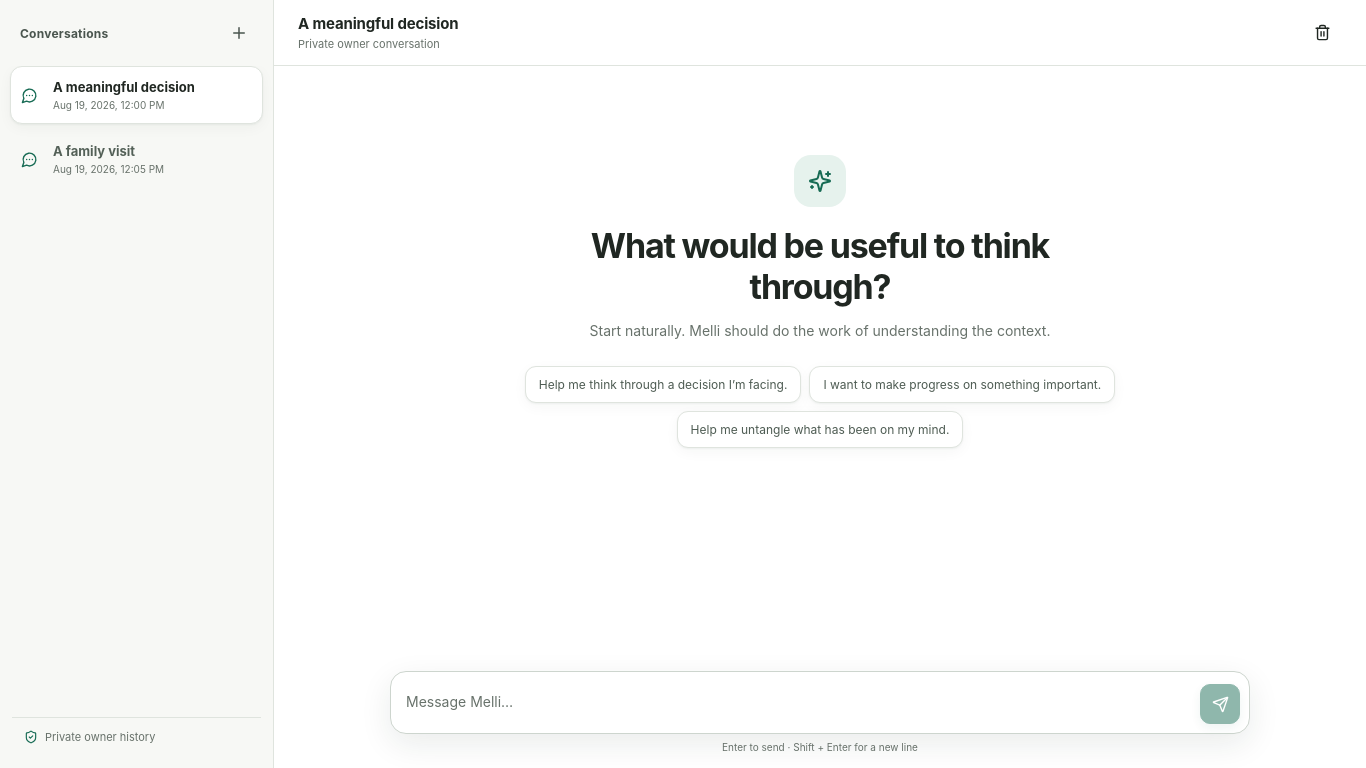
Scenario: ConversationPage › does not let a delayed create steal newer navigation
Click the button named "Start a new conversation" at {"x": 239, "y": 33}, box [219,13,259,53]
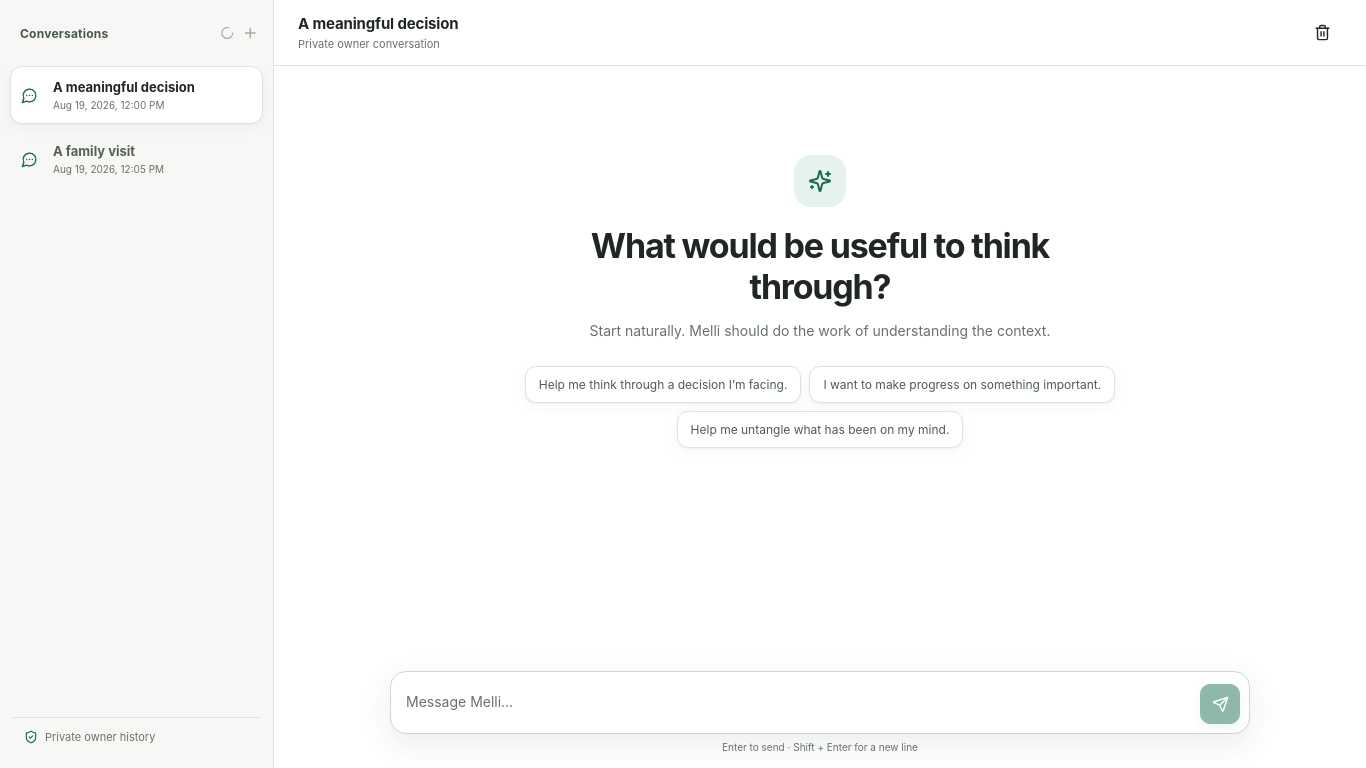
Click the button "A family visit Aug 19, 2026, 12:05 PM" at {"x": 136, "y": 159}, box [10,130,263,188]
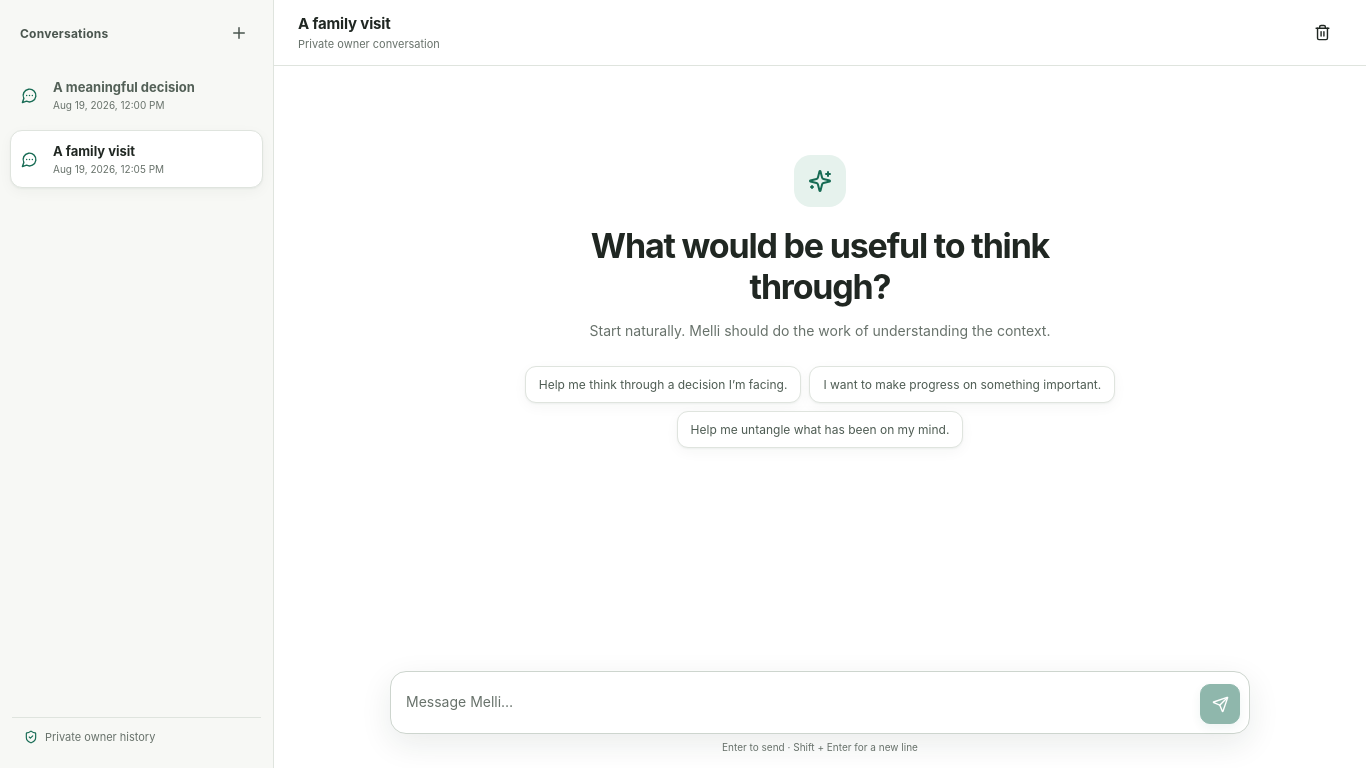
Now the heading "A family visit" is shown, box [298,14,391,33]
